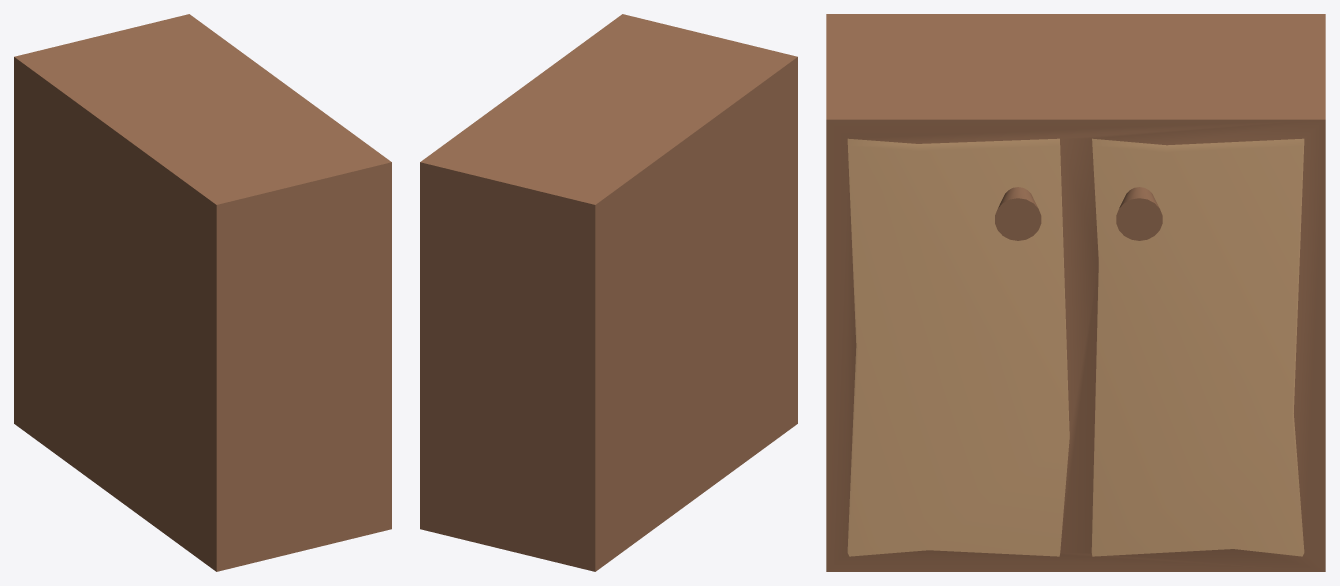
The model's file is Cabinet_Top.fbx.
3 views of the same model, side by side, from view 1: azimuth 30°, elevation 25°; view 2: azimuth 150°, elevation 25°; view 3: azimuth 270°, elevation 25° (orthographic). The views are drawn at different scales.
Parts seen in each view (by area): view 1: pCube119; view 2: pCube119; view 3: pCube119, pCylinder4, pCylinder5.
Part boxes in pixels (left/top/right/bottom): pCube119: left=14, top=14, right=391, bottom=571; pCube119: left=420, top=14, right=797, bottom=571; pCube119: left=826, top=14, right=1325, bottom=571; pCylinder4: left=1116, top=187, right=1162, bottom=240; pCylinder5: left=995, top=187, right=1041, bottom=240.
Bounding box in the file's own units: 616 × 1000 × 1000.
